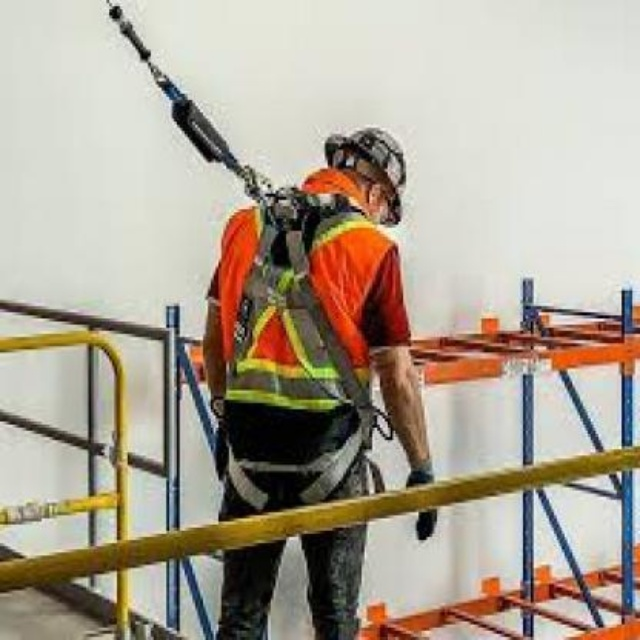Arnes_seguridad: (222, 186, 387, 512)
